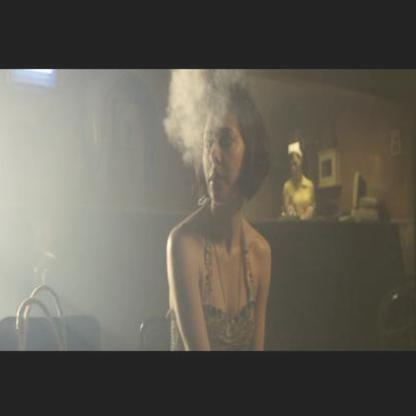person: (166, 88, 270, 351)
smoke: (166, 69, 233, 160)
